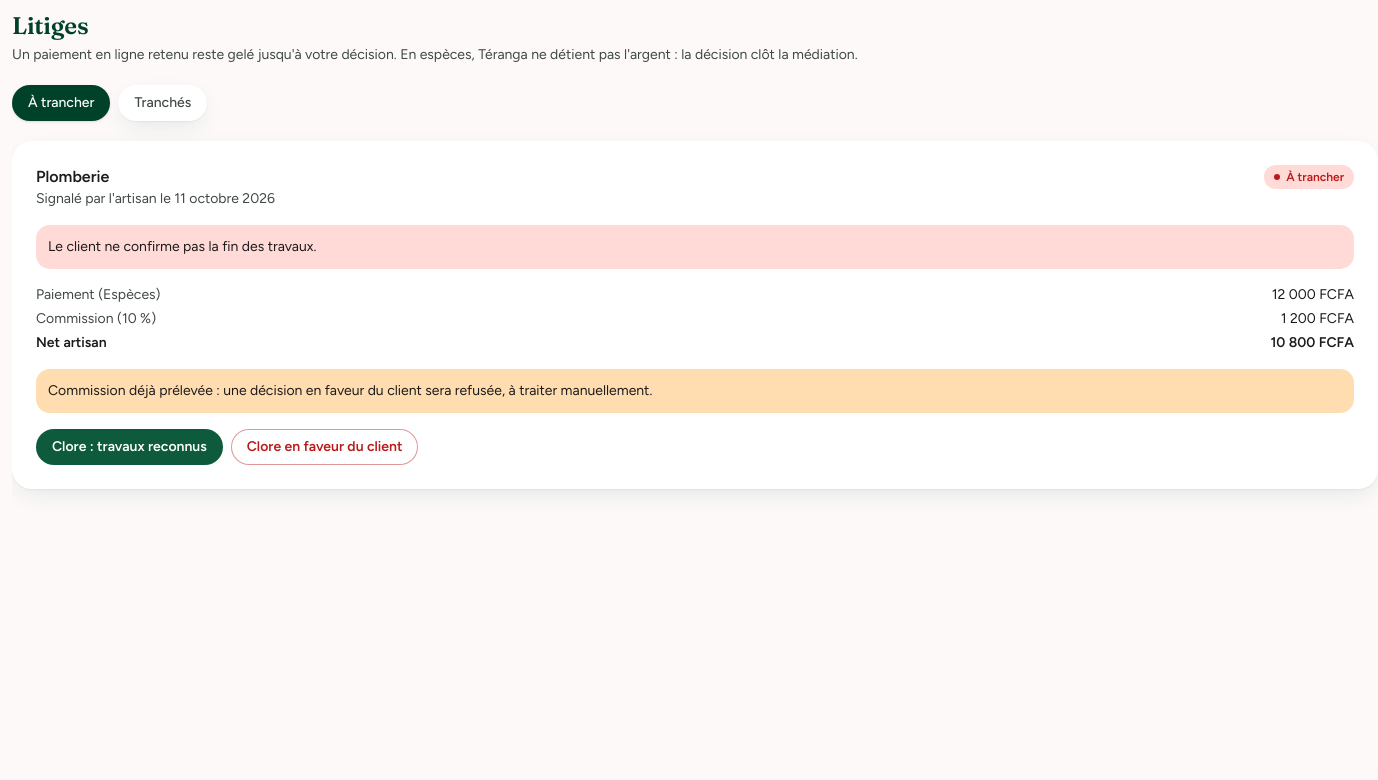
Test case: AdminDisputesScreen › signale clairement une commission déjà réglée, et affiche le refus du serveur
The width and height of the screenshot is (1378, 780).
Expected: the text "Commission déjà prélevée" is shown, [48,382,652,399]
Click the button "Clore en faveur du client" at coordinates (325, 447), box [231,429,418,465]
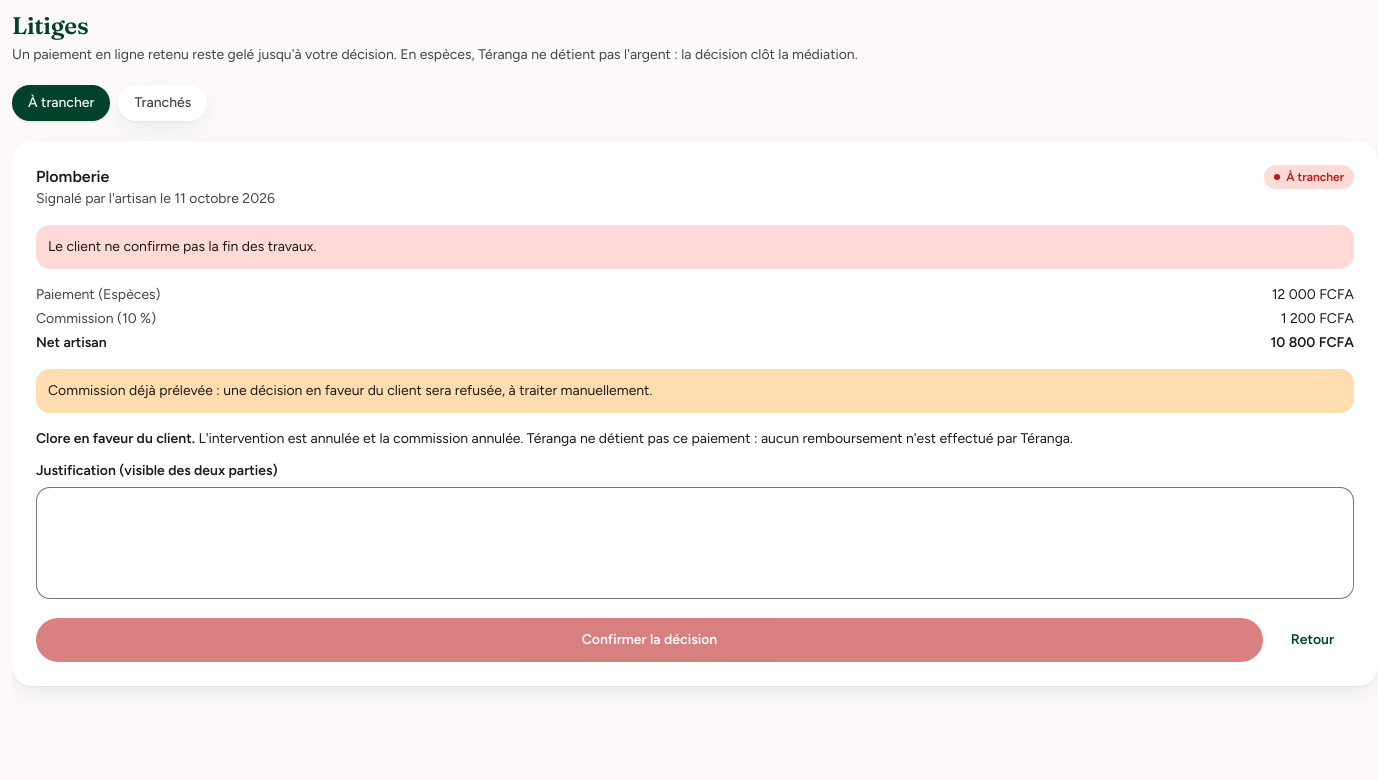
Type "Travaux non réalisés." into the text box labelled "Justification (visible des deux parties)" at coordinates (695, 543), box [36,487,1354,599]
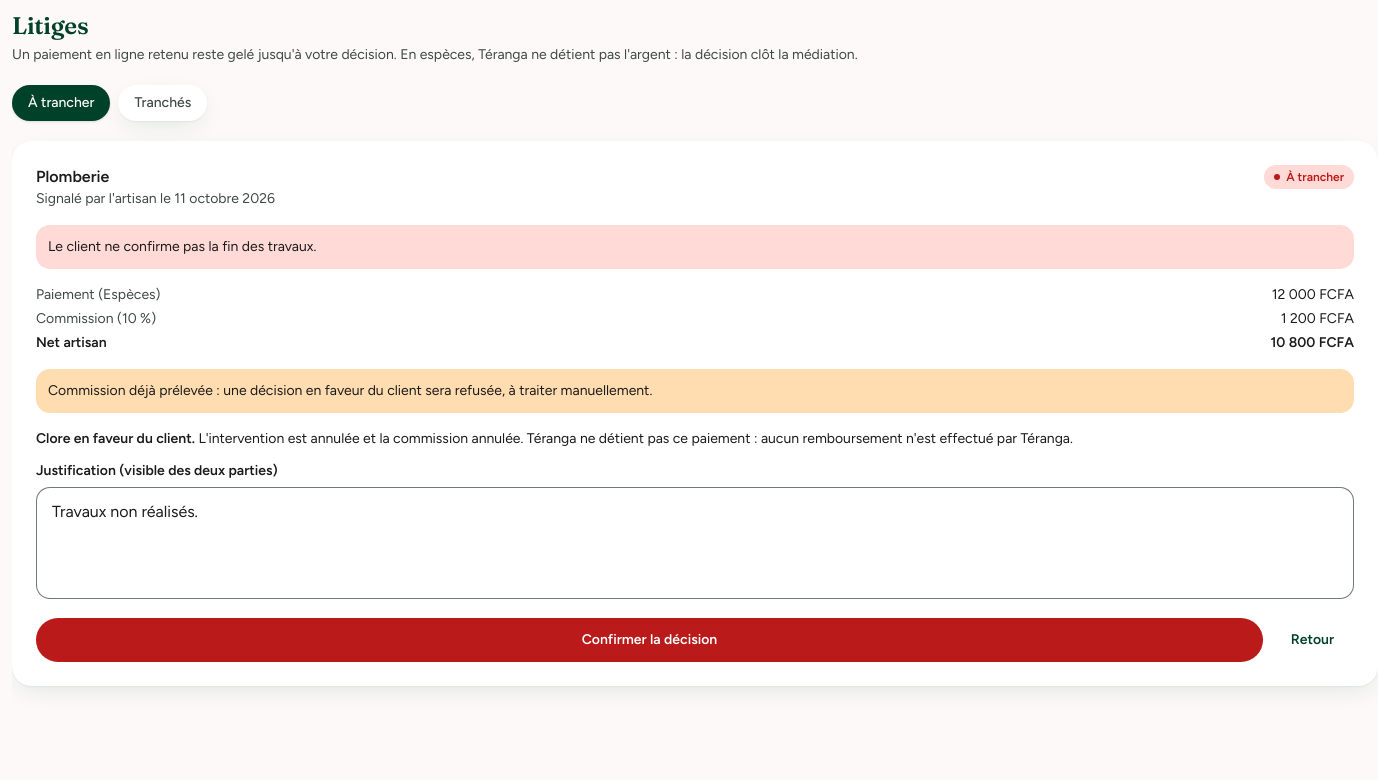
Click the button "Confirmer la décision" at coordinates (649, 640), box [36,618,1263,662]
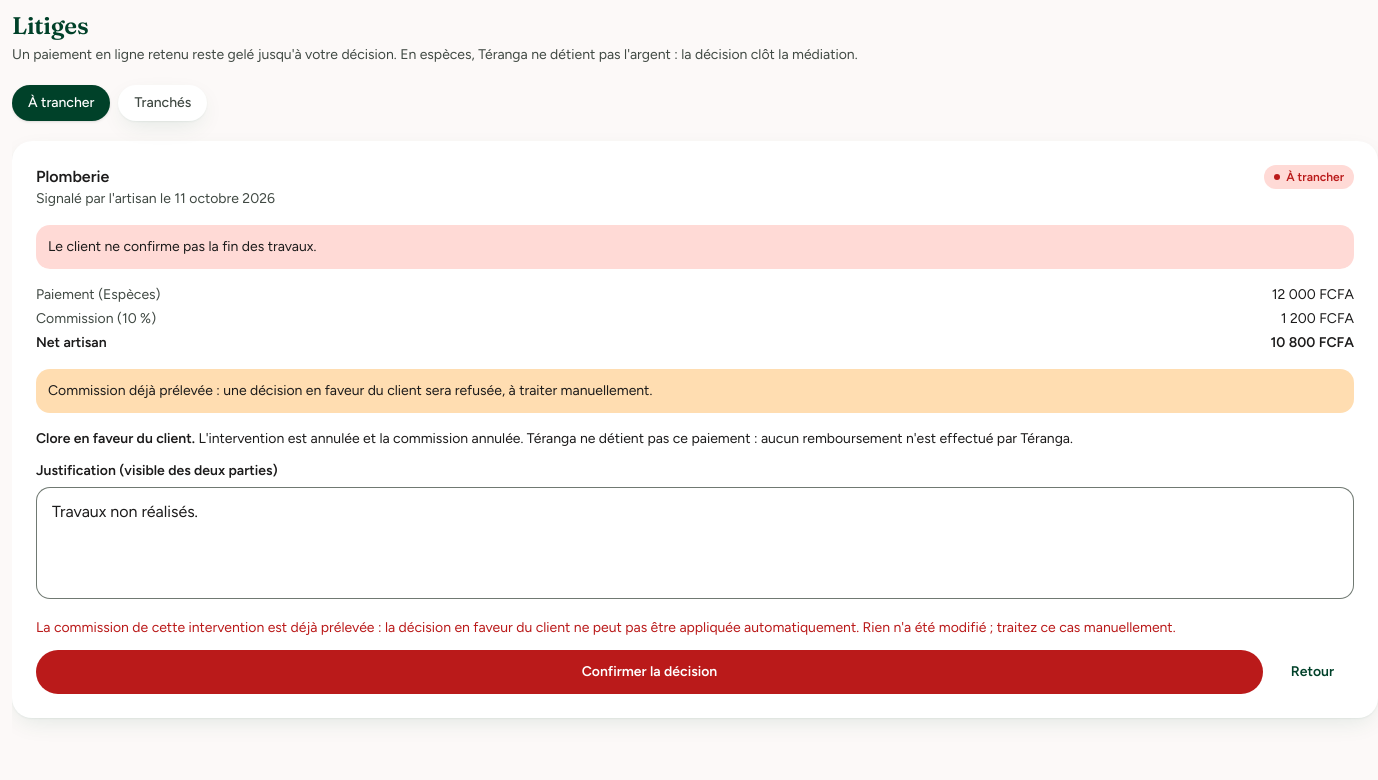
Result: the message shows "Rien n'a été modifié" at [36,619,1176,636]
